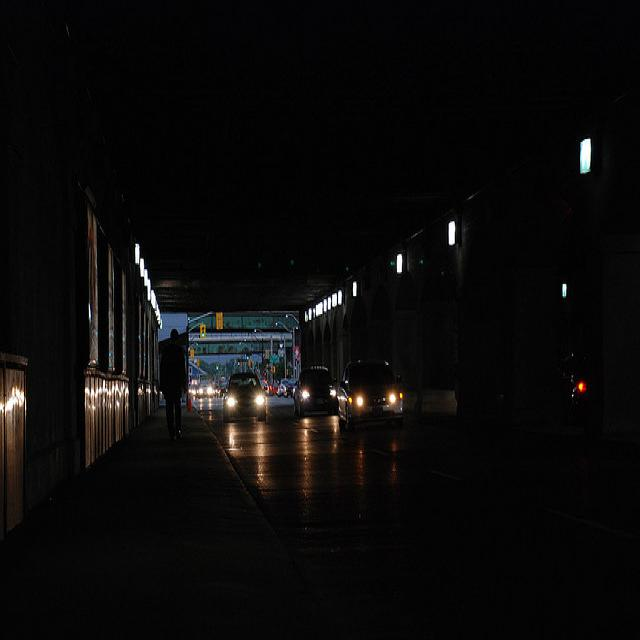Motorbike: (556, 321, 602, 445)
People: (151, 323, 196, 459)
car: (339, 349, 414, 449), (217, 354, 277, 434), (289, 361, 342, 439)
